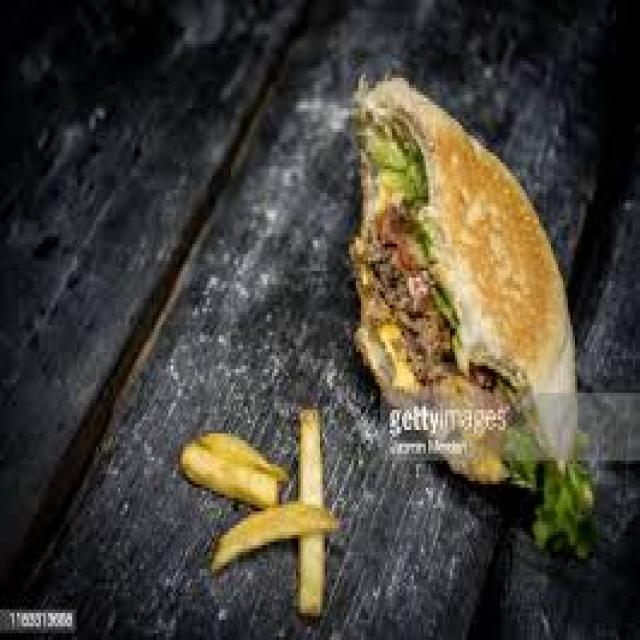food_waste: (349, 78, 592, 552), (178, 406, 337, 610)
